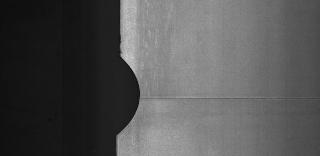welding line: (141, 92, 319, 104)
